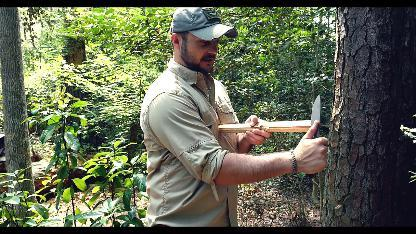knife: (298, 90, 332, 176)
